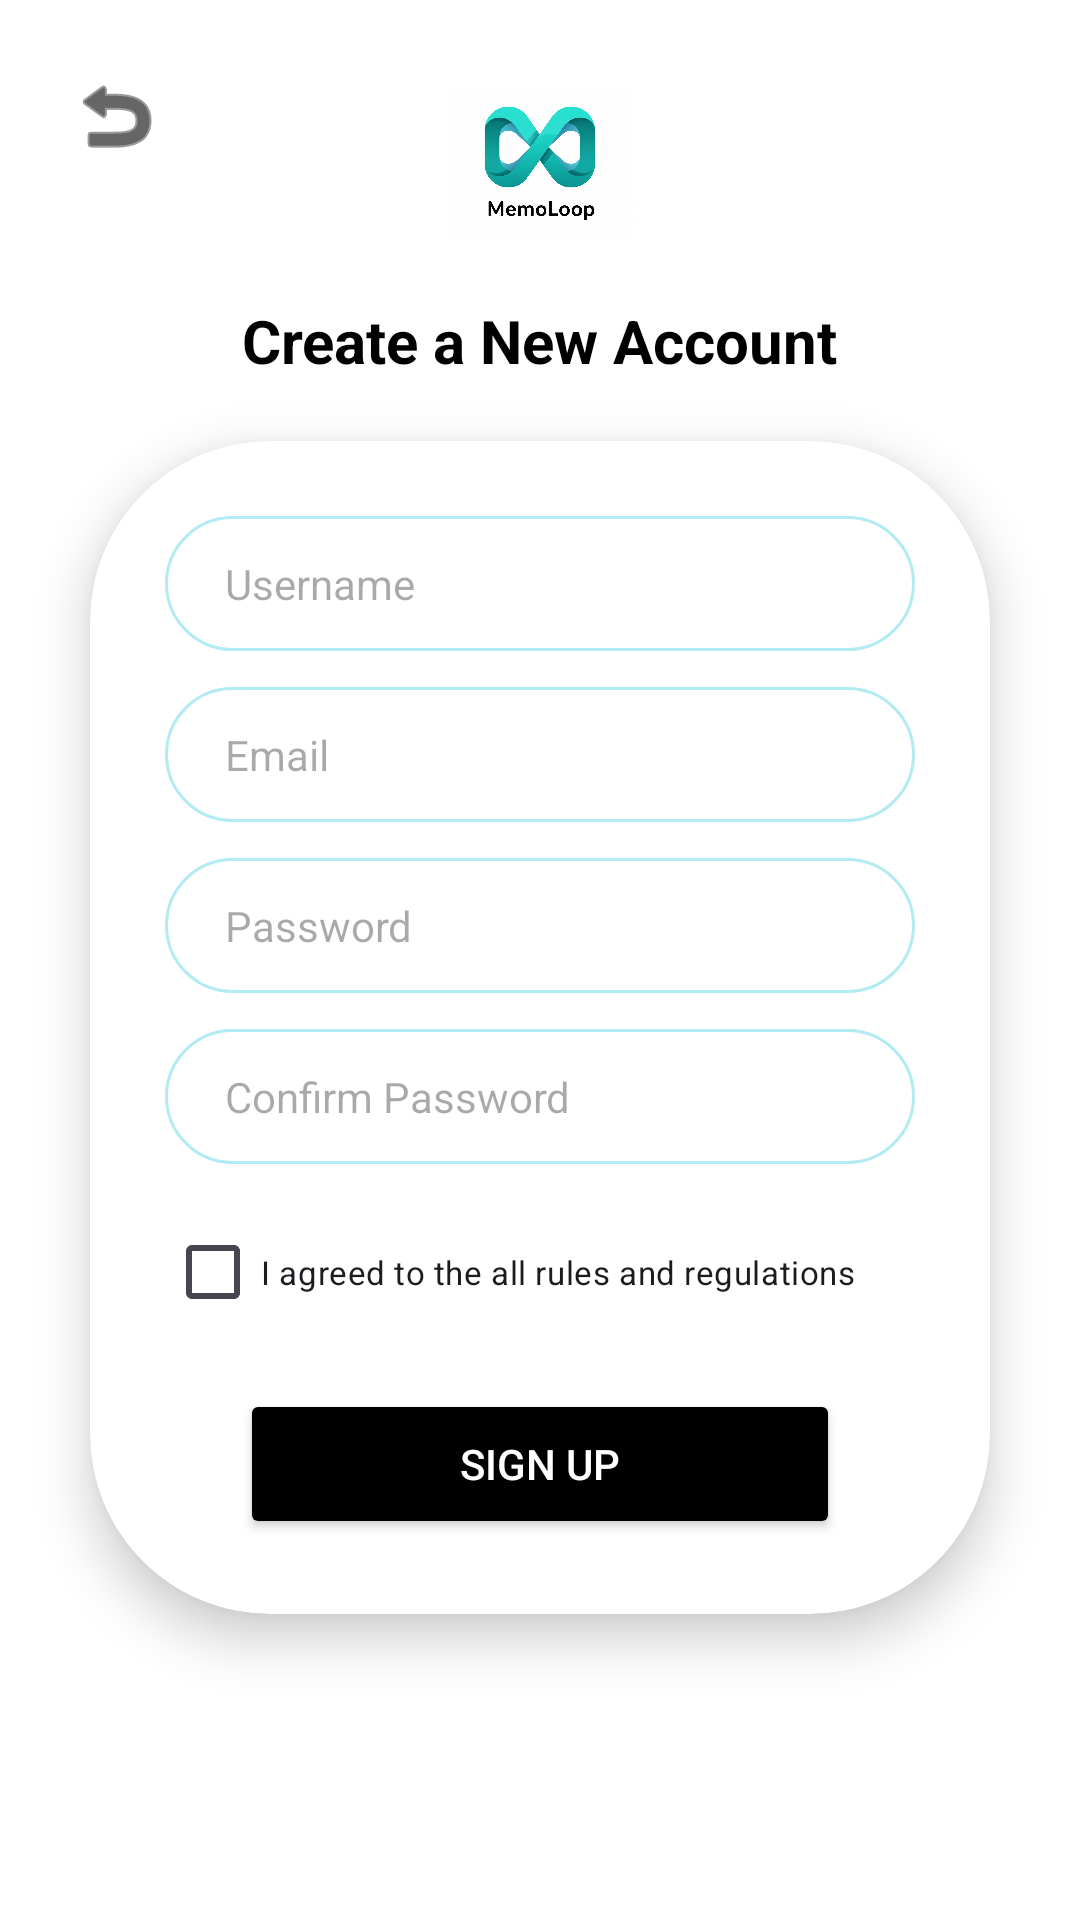

Screen size 1080 x 1920. Icon name, then its box in pixels as (x1, y1, x2, y2):
Back: (83, 85, 152, 148)
